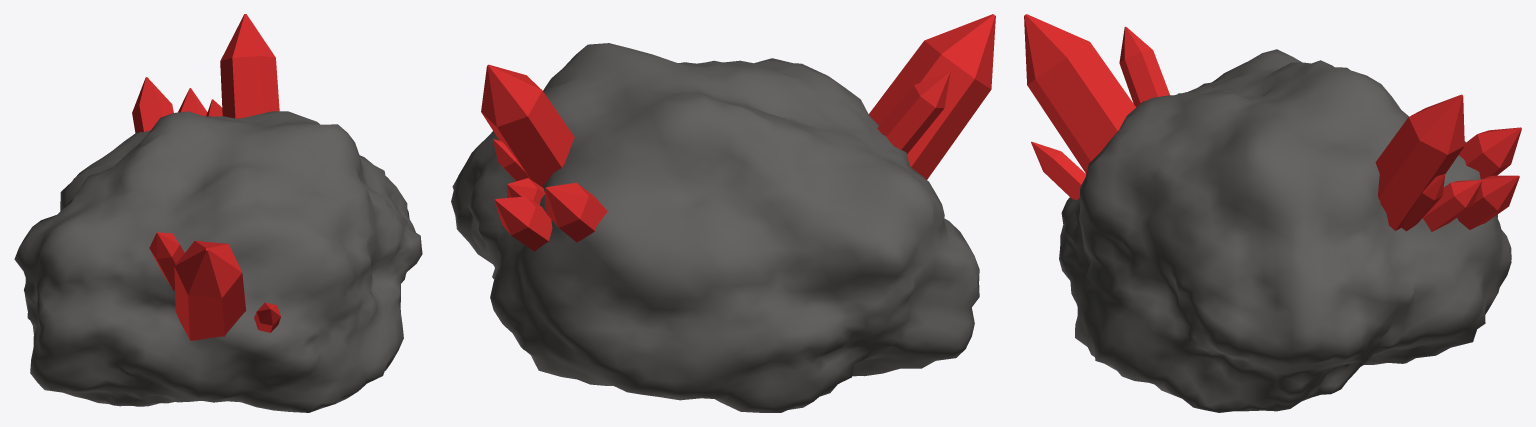
File: redstone_deep.glb
3 renders of one model, left to right at view 1: azimuth 30°, elevation 25°; view 2: azimuth 150°, elevation 25°; view 3: azimuth 270°, elevation 25°, orthographic. The views are drawn at different scales.
Visible parts, largest first — view 1: redstone_deep; view 2: redstone_deep; view 3: redstone_deep.
Boxes of the visible parts, x1,y1,x2,y2 form: redstone_deep: [14, 14, 422, 412]; redstone_deep: [451, 14, 995, 412]; redstone_deep: [1024, 14, 1521, 412].
Bounding box in the file's own units: 1.97 × 1.19 × 1.84.
